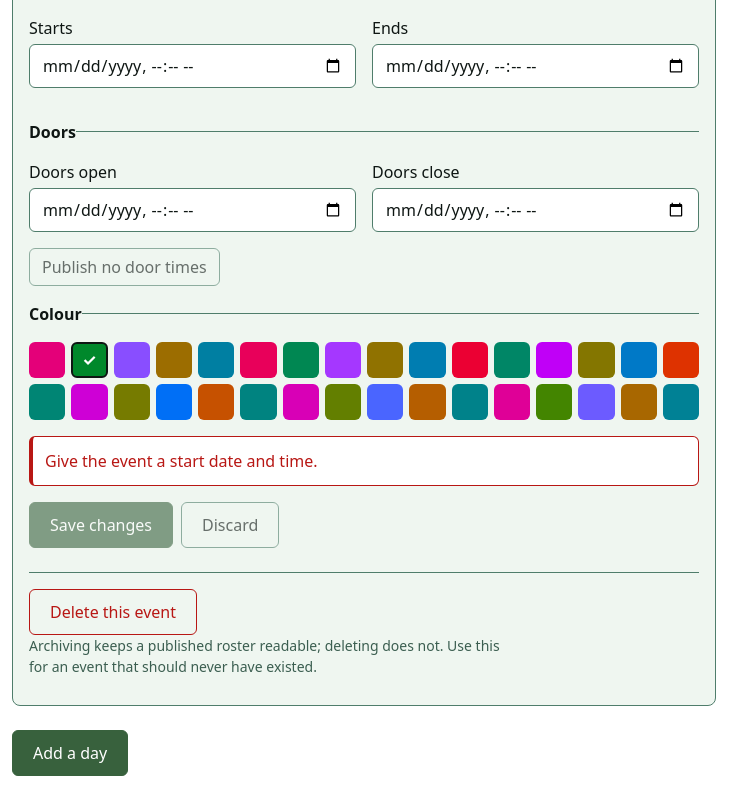
Test: adding a day from the details section › fills the slug in from the name
(page scrolled)
Click the button "Add a day". click: coordinates (70, 753)
box: [12,730,128,776]
(page scrolled)
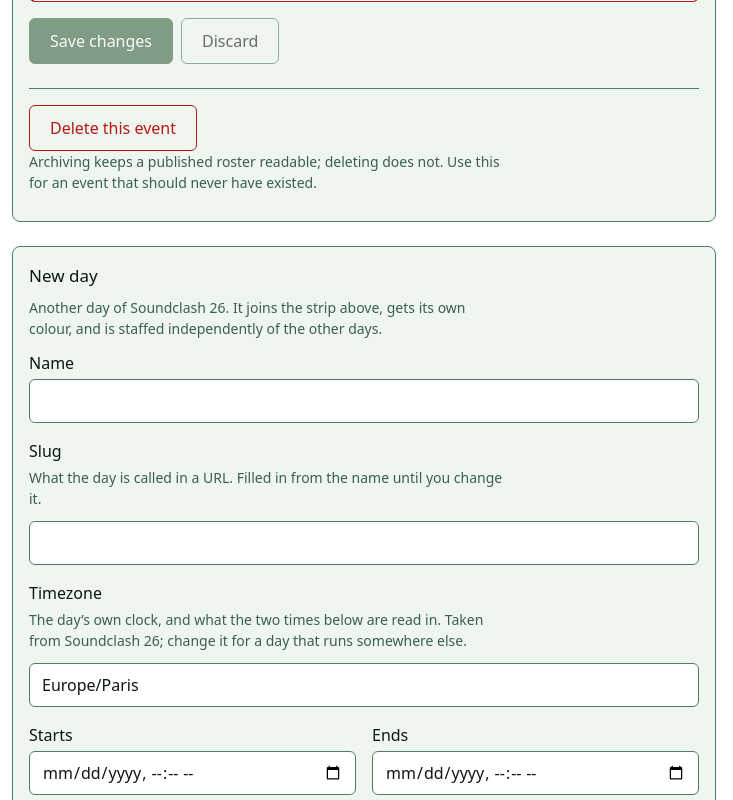
Type "Samedi 1er août" into the field with id "evp-new-event-name". click: coordinates (364, 400)
box: [29,378,699,422]
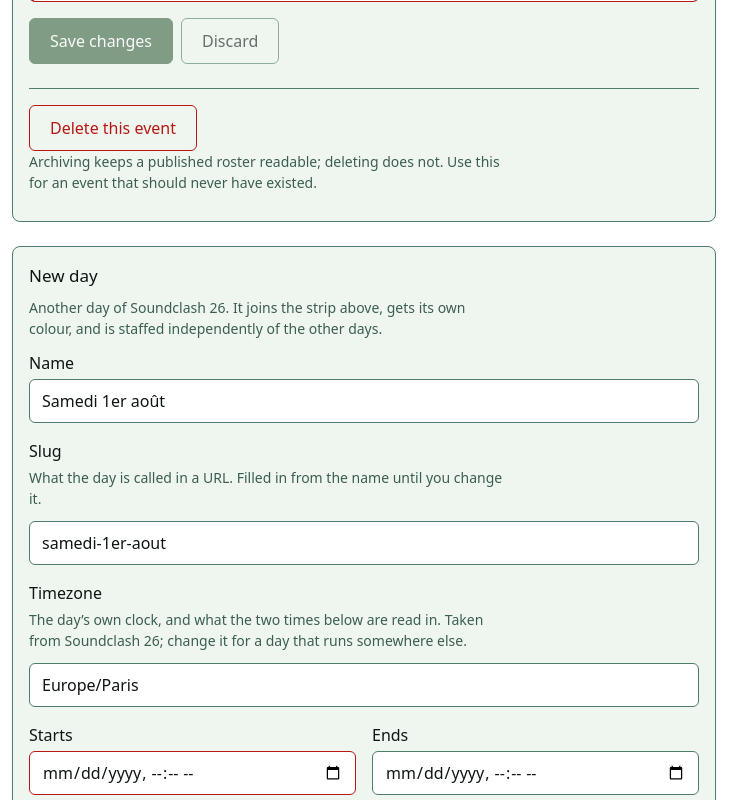
Expected: the field with id "evp-new-event-slug" holds "samedi-1er-aout", [29,520,699,564]
